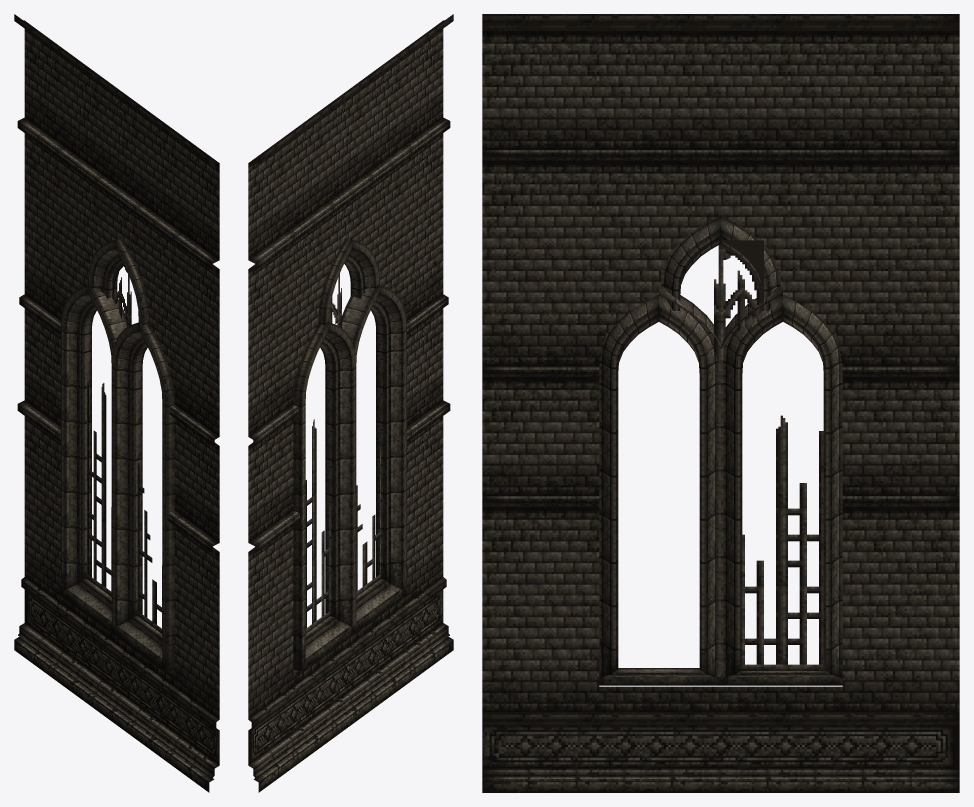
File: EnvMdrMD_Castle_LostSeed_A_Wall_D_Window_B.FBX
3 views of the same model, side by side, from view 1: azimuth 30°, elevation 25°; view 2: azimuth 150°, elevation 25°; view 3: azimuth 270°, elevation 25° (orthographic). The views are drawn at different scales.
Parts seen in each view (by area): view 1: EnvMdrMD_Castle_LostSeed_A_Wall_D_Window_B; view 2: EnvMdrMD_Castle_LostSeed_A_Wall_D_Window_B; view 3: EnvMdrMD_Castle_LostSeed_A_Wall_D_Window_B.
Part boxes in pixels (bbox=[...]): EnvMdrMD_Castle_LostSeed_A_Wall_D_Window_B: bbox=[14, 14, 219, 792]; EnvMdrMD_Castle_LostSeed_A_Wall_D_Window_B: bbox=[248, 14, 453, 792]; EnvMdrMD_Castle_LostSeed_A_Wall_D_Window_B: bbox=[482, 14, 959, 792].
Size of the model in its own units: 65 by 1800 by 1000.
Materials: 1 (1 with a texture image).
